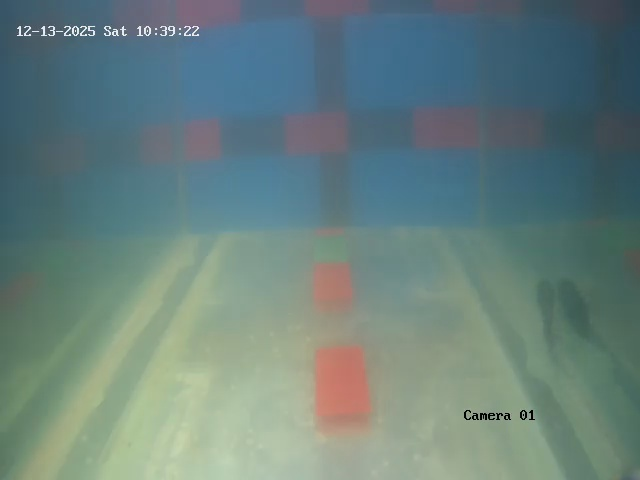fish: (529, 270, 563, 360)
